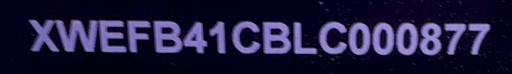letter: (53, 17, 99, 55), (25, 16, 61, 52), (150, 18, 184, 55), (96, 16, 128, 54), (180, 18, 212, 56), (230, 18, 262, 56), (260, 18, 292, 56), (290, 18, 318, 56), (124, 17, 152, 54), (318, 19, 348, 53), (393, 18, 419, 56), (346, 18, 372, 56), (466, 19, 492, 56), (370, 18, 396, 54), (206, 18, 230, 55), (419, 19, 443, 56), (442, 19, 466, 56)
